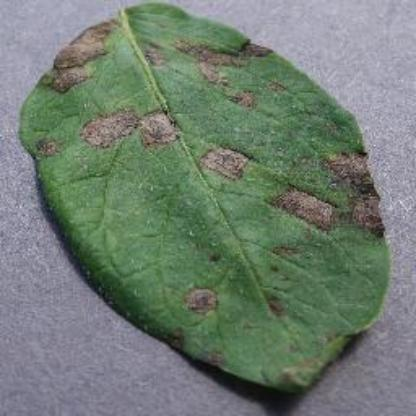Early-Blight: (20, 4, 392, 396)
